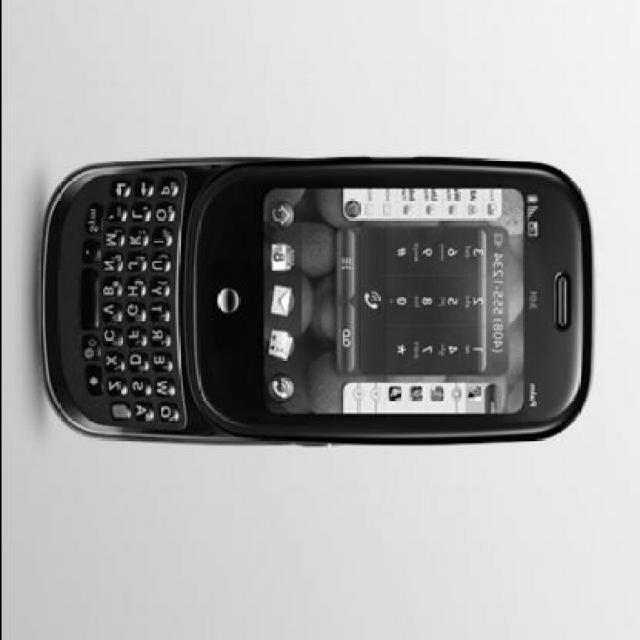fake: (58, 144, 602, 458)
